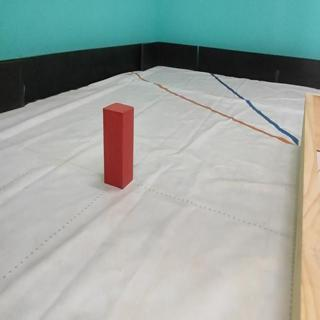redbox: (102, 101, 137, 189)
